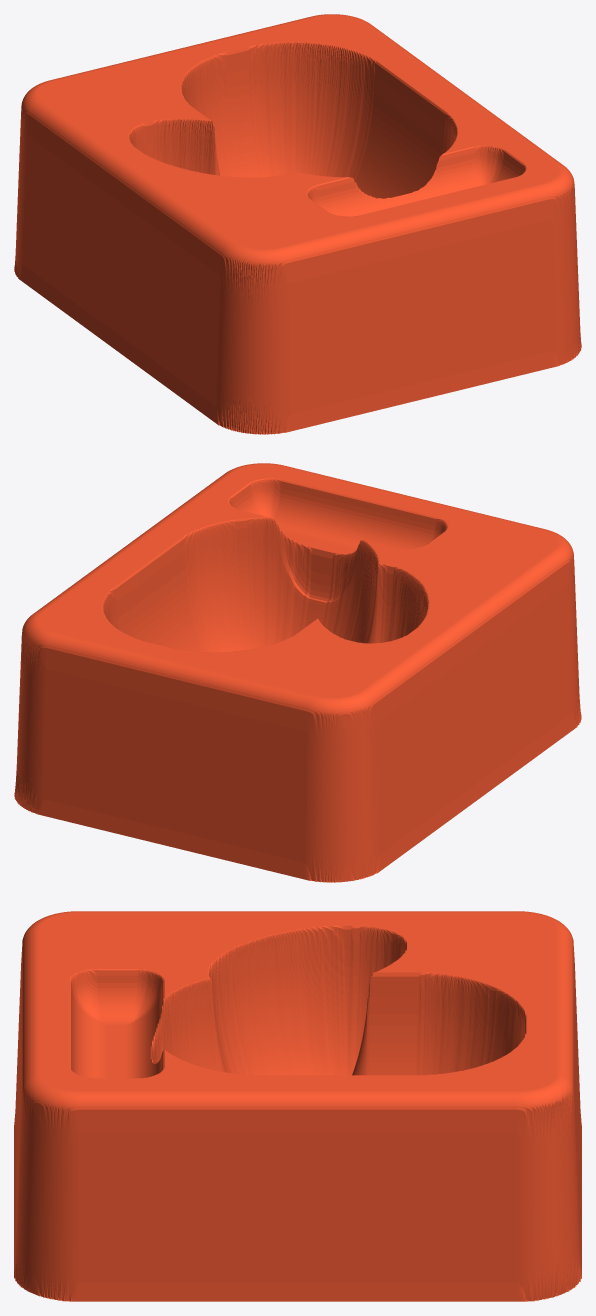
File: mold.glb
3 views of the same model, one above another, from view 1: azimuth 30°, elevation 25°; view 2: azimuth 150°, elevation 25°; view 3: azimuth 270°, elevation 25° (orthographic). The views are drawn at different scales.
Visible parts, largest first — view 1: geometry_0; view 2: geometry_0; view 3: geometry_0.
Boxes of the visible parts, left/top/right/bottom form: geometry_0: left=14, top=14, right=581, bottom=434; geometry_0: left=14, top=463, right=581, bottom=882; geometry_0: left=14, top=911, right=581, bottom=1301.
Size of the model in its own units: 0.0664 by 0.031 by 0.0798.
